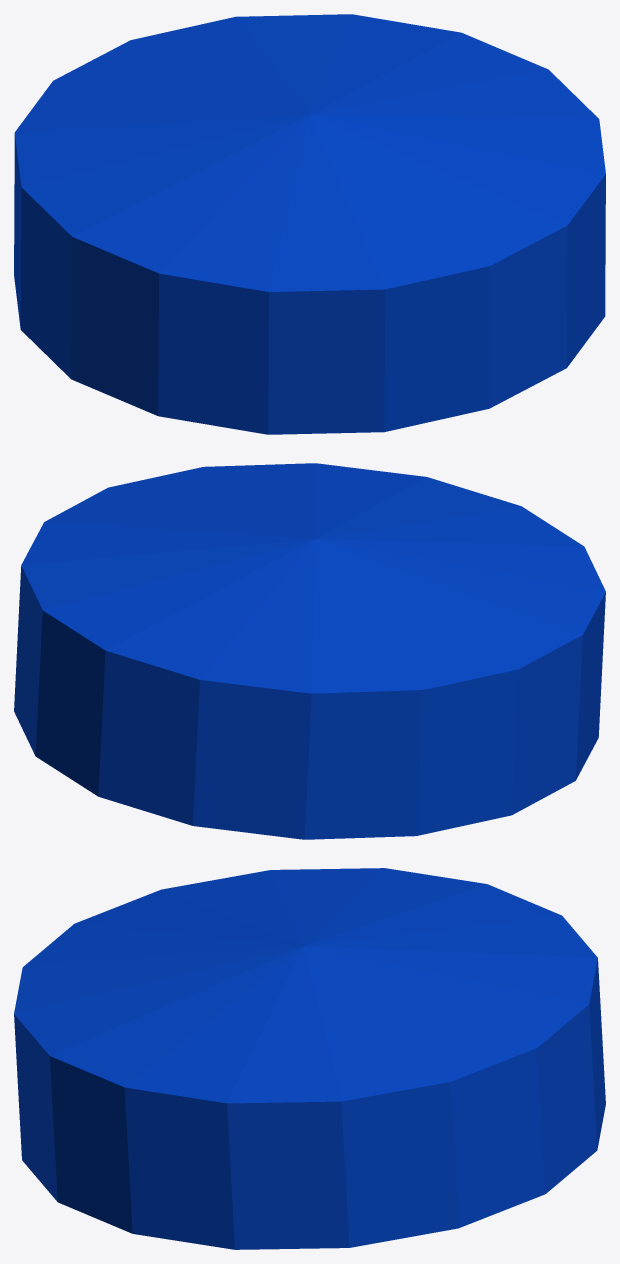
The model's file is Stage1.obj.
3 renders of one model, top to bottom at view 1: azimuth 30°, elevation 25°; view 2: azimuth 150°, elevation 25°; view 3: azimuth 270°, elevation 25°, orthographic.
Parts seen in each view (by area): view 1: Mesh.292_DrawCall_65.001; view 2: Mesh.292_DrawCall_65.001; view 3: Mesh.292_DrawCall_65.001.
Part boxes in pixels (box(x1,y1,x2,y2)): Mesh.292_DrawCall_65.001: box(14, 14, 605, 434); Mesh.292_DrawCall_65.001: box(14, 463, 605, 839); Mesh.292_DrawCall_65.001: box(14, 868, 605, 1249).
Bounding box in the file's own units: 7080 × 2631 × 7119.
